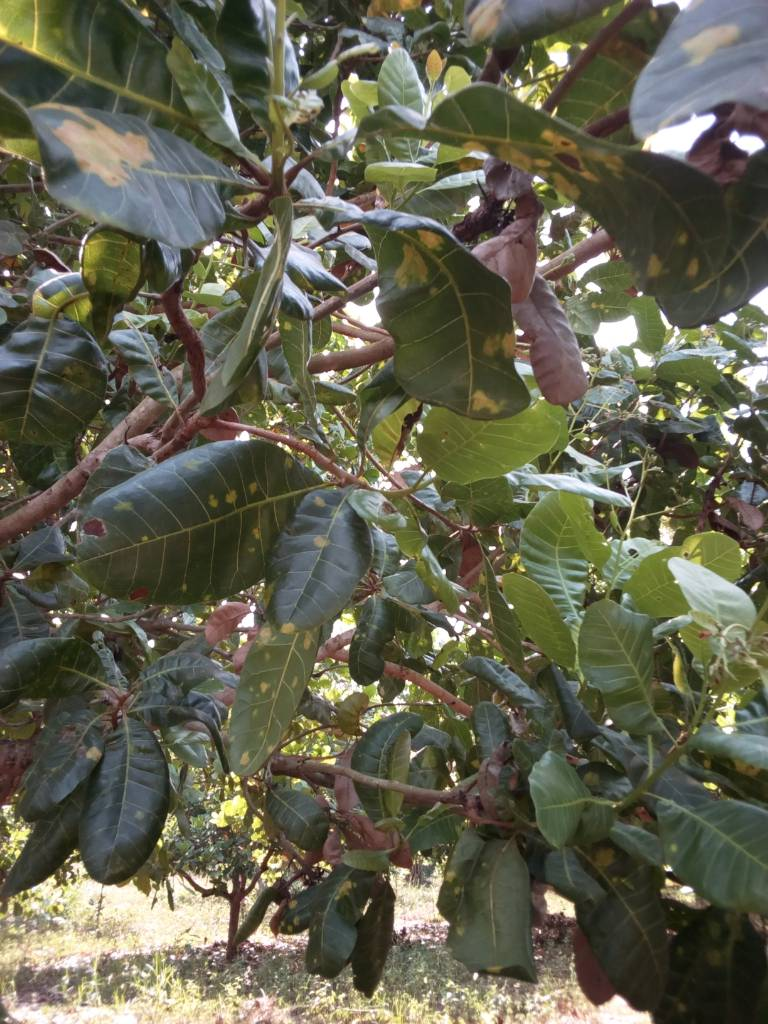Carence minérale: (424, 77, 760, 346), (305, 203, 557, 428), (63, 430, 338, 616), (26, 97, 238, 255), (205, 599, 346, 780), (243, 486, 415, 633)
